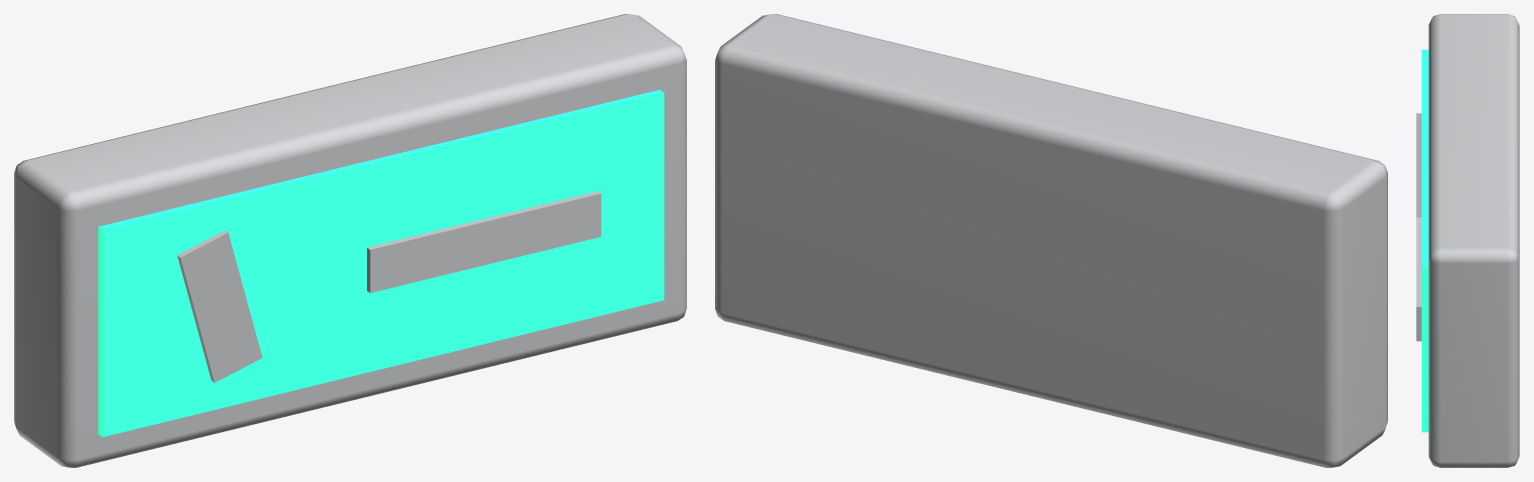
Rendered from ExitSign.fbx.
3 renders of one model, left to right at view 1: azimuth 30°, elevation 25°; view 2: azimuth 150°, elevation 25°; view 3: azimuth 270°, elevation 25°, orthographic. The views are drawn at different scales.
Parts seen in each view (by area): view 1: ExitSignBody; view 2: ExitSignBody; view 3: ExitSignBody.
Part boxes in pixels (x1=…): ExitSignBody: x1=14, y1=14, x2=686, y2=467; ExitSignBody: x1=715, y1=14, x2=1387, y2=467; ExitSignBody: x1=1416, y1=14, x2=1519, y2=467.
Bounding box in the file's own units: 0.38 × 0.16 × 0.068.
